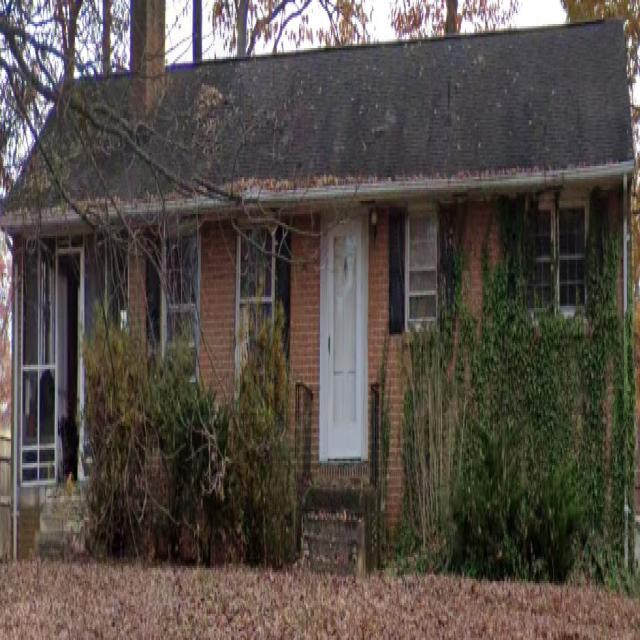House: (0, 0, 635, 565)
